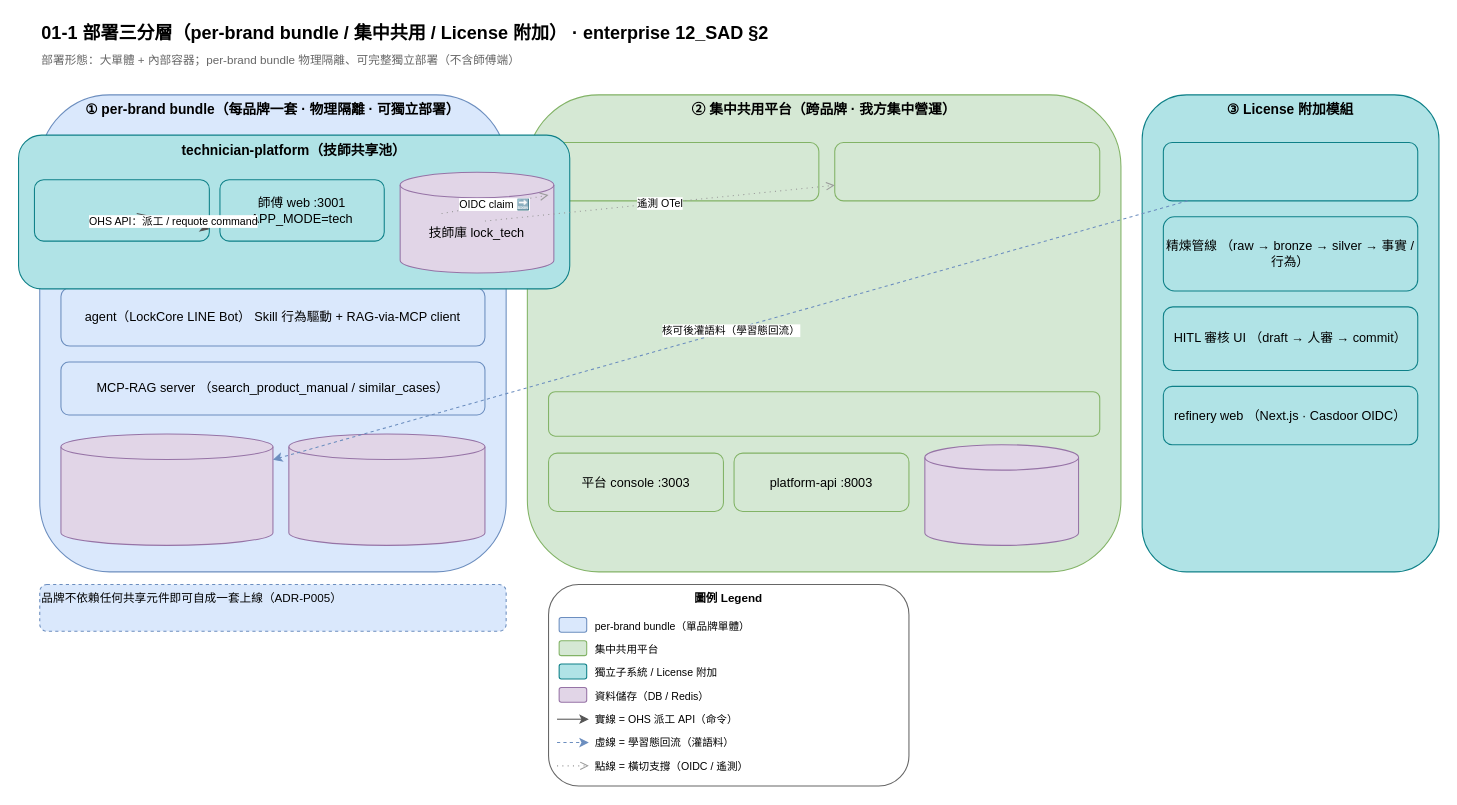
Some shapes in this 1457 by 805 pixel diagram are drawn without their labels. Each missing label, with the centre of its shape:
Casdoor （IdP / 租戶 / License）: point 683,171
Kafka 事件骨幹 🔜（階段二）: point 823,413
knowledge-refinery （知識精煉 · License 附加）: point 1290,171
Redis （WS pub/sub + cache）: point 386,489
SigNoz + OPIK （可觀測 / LLM Ops）: point 967,171
tech-api :8002 （OHS API）: point 121,210
品牌庫 PostgreSQL + pgvector （業務 + 唯一事實語料）: point 166,489
平台庫: point 1001,494
